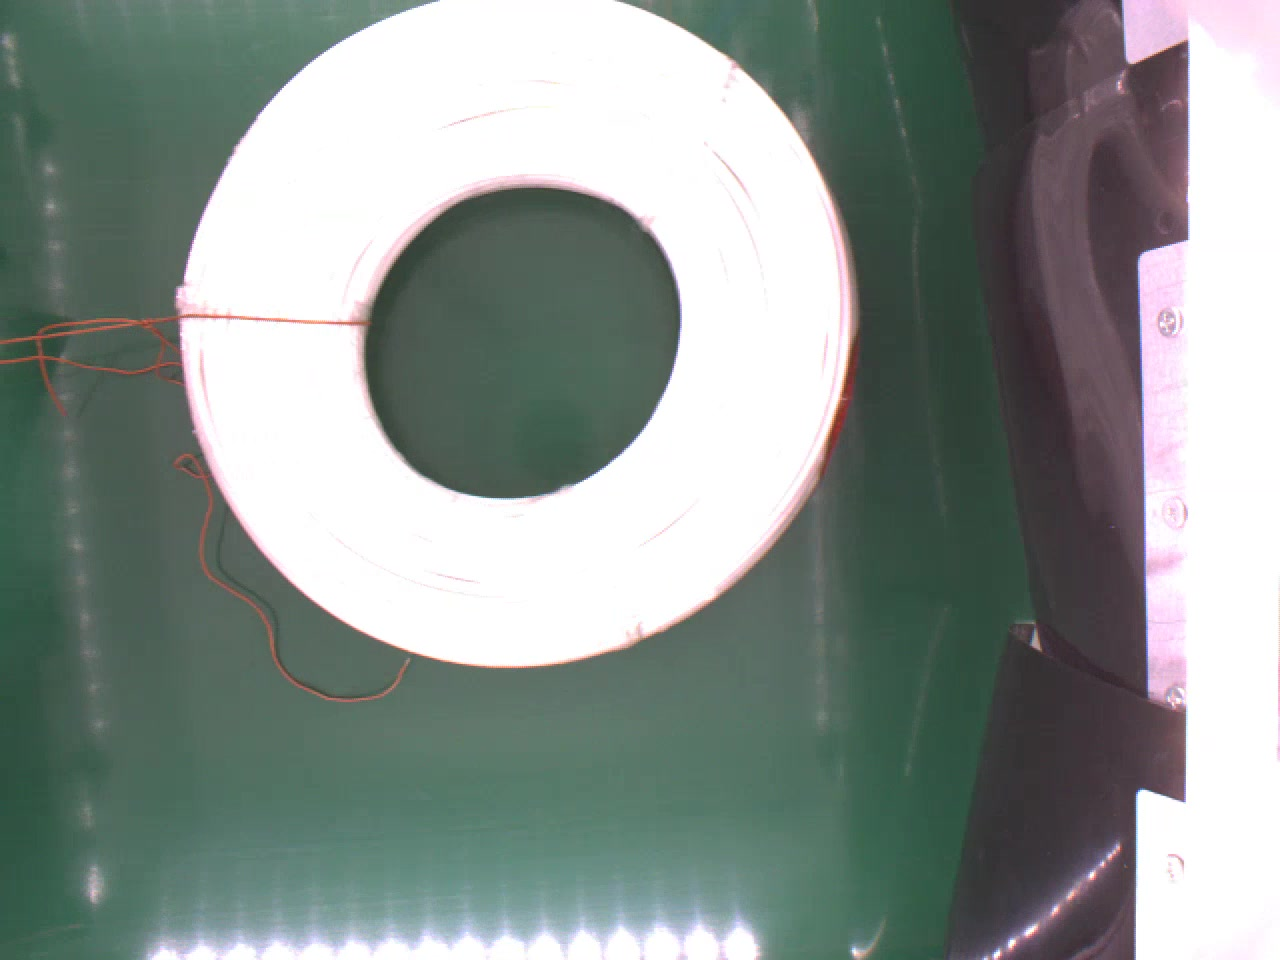white: (175, 0, 853, 668)
